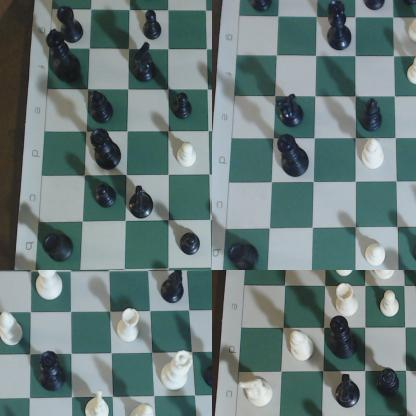black-bishop: (86, 84, 118, 128), (361, 97, 388, 136), (376, 368, 403, 400), (245, 1, 278, 16), (205, 355, 212, 390)
black-king: (43, 27, 90, 89), (275, 133, 313, 180), (330, 314, 364, 364)
black-knight: (133, 40, 162, 88), (158, 271, 189, 308), (276, 94, 305, 130), (337, 375, 365, 410), (129, 186, 156, 220)
black-pawn: (172, 90, 197, 123), (140, 10, 164, 44), (96, 182, 119, 213), (180, 229, 200, 254)
black-queen: (88, 125, 130, 175), (324, 1, 356, 55), (37, 353, 68, 396)
black-rook: (42, 233, 78, 267), (227, 240, 264, 270), (57, 4, 84, 44), (364, 1, 388, 13)
white-bishop: (285, 328, 317, 366), (1, 309, 27, 350), (361, 138, 390, 172), (129, 400, 155, 416), (371, 271, 401, 284)
white-king: (31, 271, 70, 306)
white-knight: (240, 377, 278, 409), (83, 393, 115, 416), (407, 2, 416, 47)
white-pawn: (175, 139, 204, 174), (379, 292, 404, 325), (363, 240, 388, 271), (404, 54, 416, 93), (332, 271, 357, 279)
white-queen: (158, 348, 197, 395)
white-rook: (333, 284, 363, 321), (116, 311, 139, 347)
